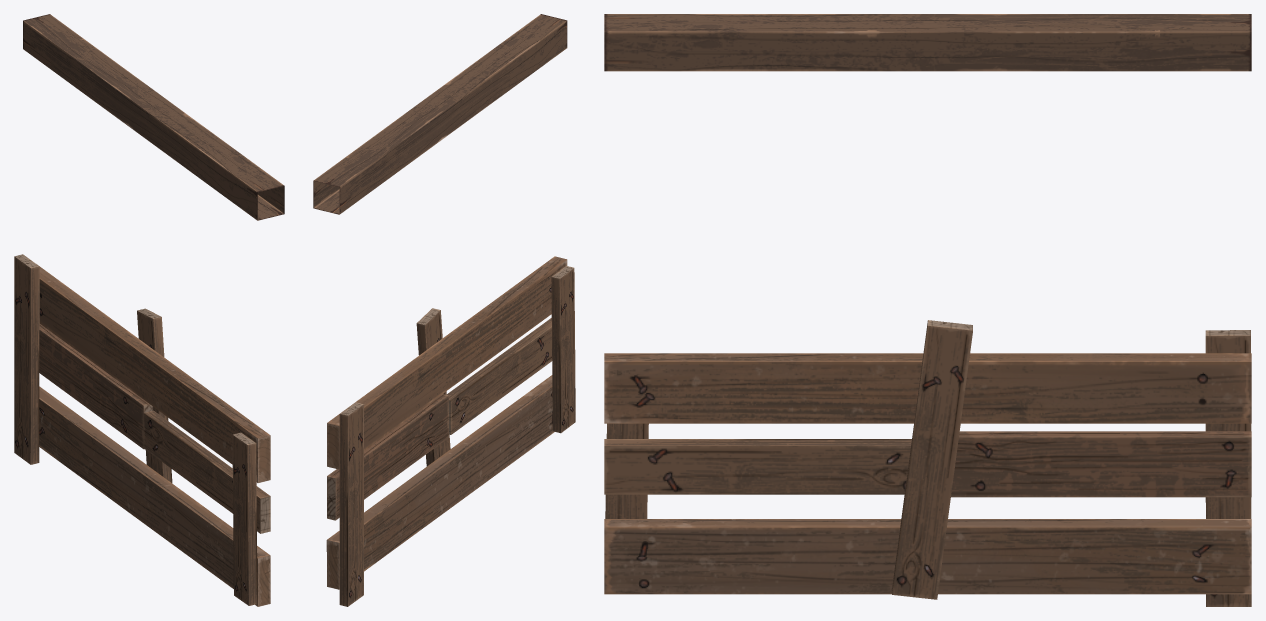
Rendered from wall02_B.fbx.
3 views of the same model, side by side, from view 1: azimuth 30°, elevation 25°; view 2: azimuth 150°, elevation 25°; view 3: azimuth 270°, elevation 25° (orthographic). The views are drawn at different scales.
Parts seen in each view (by area): view 1: wall02_B; view 2: wall02_B; view 3: wall02_B.
Part boxes in pixels (box(x1,y1,x2,y2)): wall02_B: box(14, 14, 284, 606); wall02_B: box(313, 14, 575, 606); wall02_B: box(604, 14, 1251, 606).
Size of the model in its own units: 26.31 by 303 by 300.
